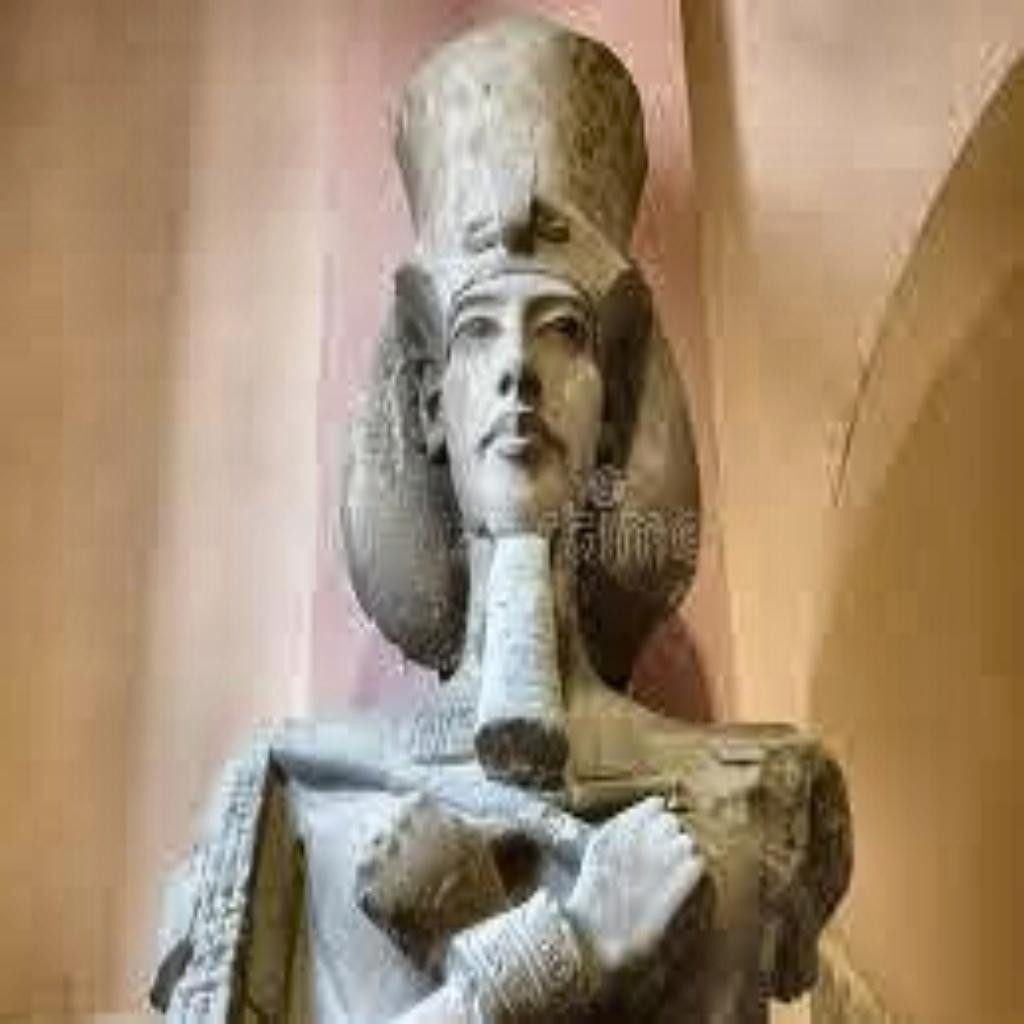Akhenaten: (146, 14, 870, 1019)
